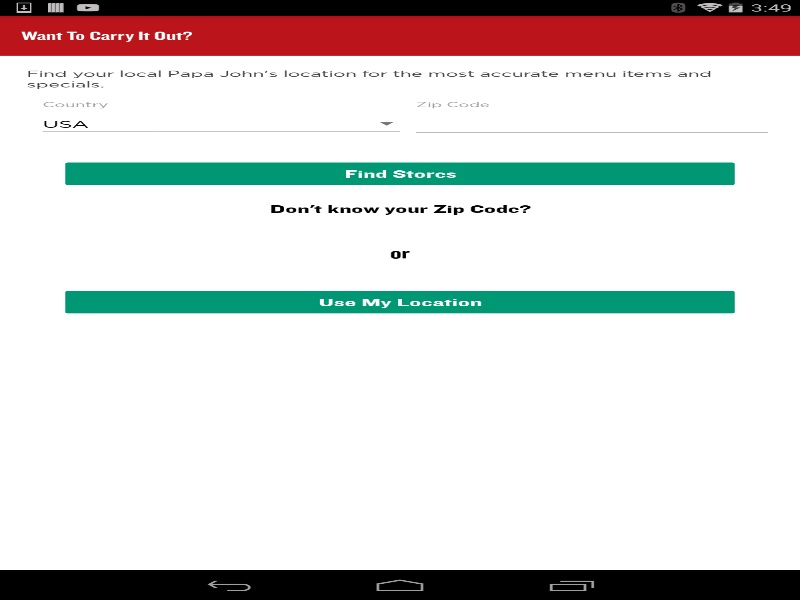Button: (60, 158, 740, 188), (60, 193, 740, 223), (60, 287, 740, 317)
Input: (410, 110, 773, 137)
